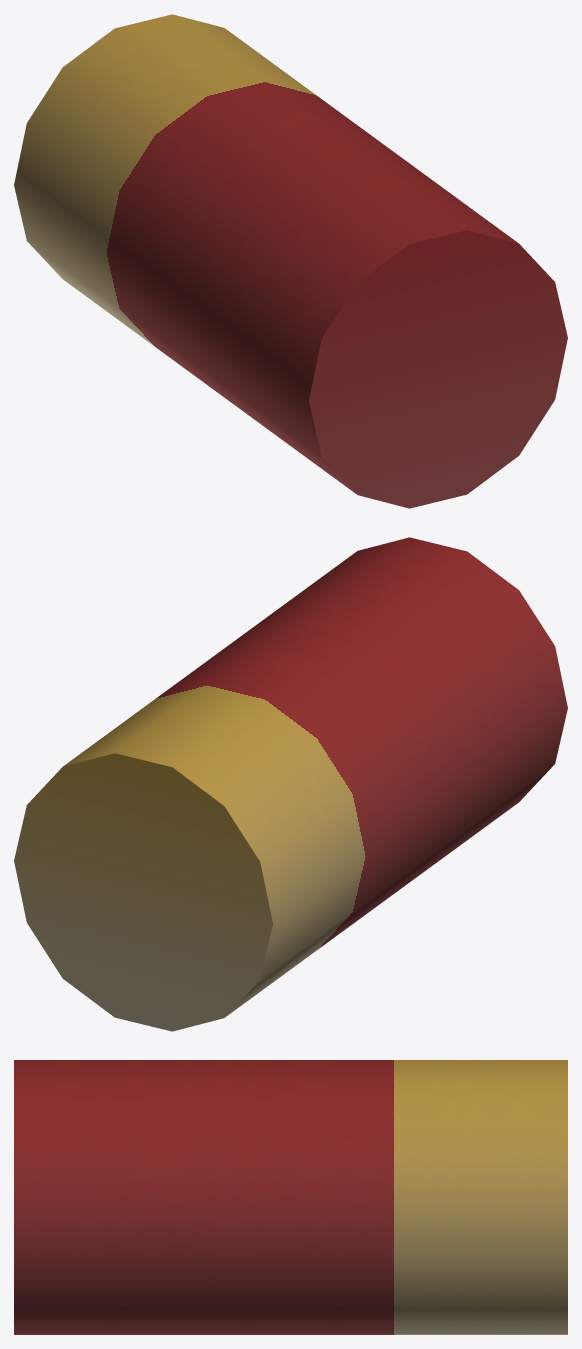
Rendered from ShotgunShell.fbx.
3 views of the same model, one above another, from view 1: azimuth 30°, elevation 25°; view 2: azimuth 150°, elevation 25°; view 3: azimuth 270°, elevation 25° (orthographic). The views are drawn at different scales.
Visible parts, largest first — view 1: BulletCase; view 2: BulletCase; view 3: BulletCase.
Part boxes in pixels (bbox=[...]): BulletCase: bbox=[14, 14, 567, 508]; BulletCase: bbox=[14, 537, 567, 1031]; BulletCase: bbox=[14, 1060, 567, 1334].
Size of the model in its own units: 6.63 by 6.46 by 13.07.
